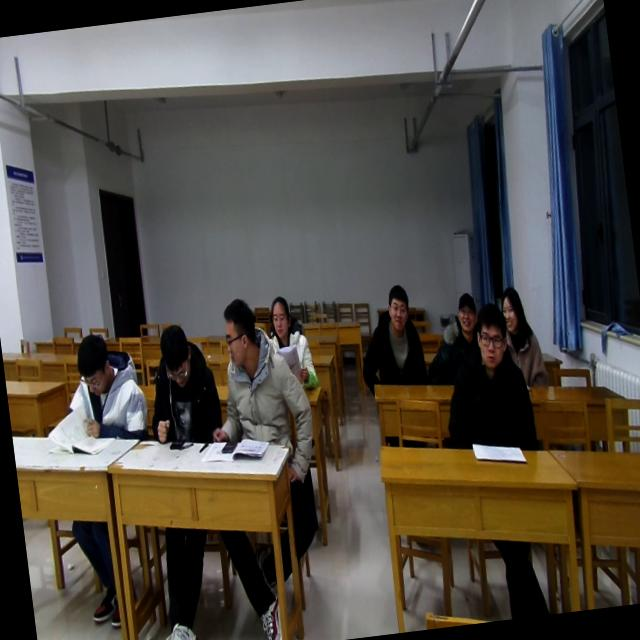down: (69, 324, 115, 398), (154, 318, 196, 394)
lookup: (470, 300, 512, 372), (380, 278, 414, 336), (496, 280, 526, 338), (450, 284, 480, 339), (262, 288, 293, 338)
sit: (200, 290, 316, 453), (431, 300, 541, 454), (54, 326, 153, 448), (137, 318, 226, 447), (352, 282, 429, 394), (418, 291, 490, 386), (260, 290, 320, 398), (498, 282, 550, 391)
